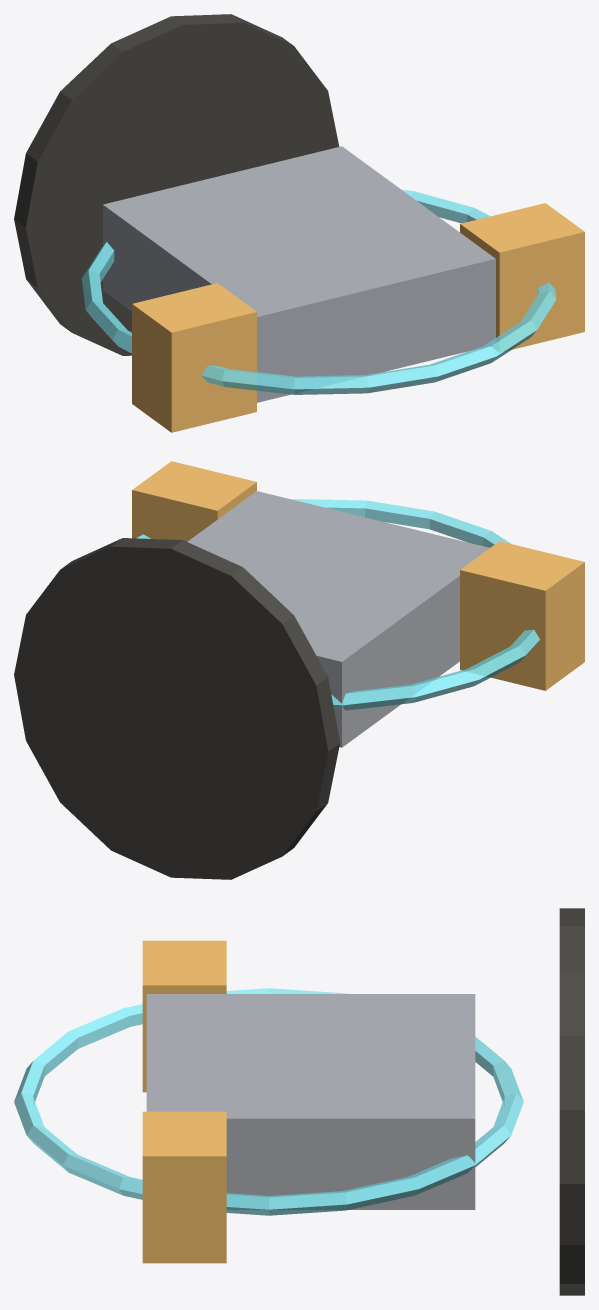
The model's file is 05_high_tier_magic_armor_aura.glb.
The picture shows the model from 3 angles, top to bottom: view 1: azimuth 30°, elevation 25°; view 2: azimuth 150°, elevation 25°; view 3: azimuth 270°, elevation 25°; orthographic projection. The views are drawn at different scales.
Parts seen in each view (by area): view 1: chest_plate_upgrade, armor_display_base, left_pauldron_upgrade, right_pauldron_upgrade, armor_barrier_ring; view 2: armor_display_base, chest_plate_upgrade, left_pauldron_upgrade, armor_barrier_ring, right_pauldron_upgrade; view 3: chest_plate_upgrade, armor_barrier_ring, right_pauldron_upgrade, armor_display_base, left_pauldron_upgrade.
Part boxes in pixels (x1,y1,x2,y2): chest_plate_upgrade: [103, 146, 495, 402]; armor_display_base: [14, 14, 339, 355]; left_pauldron_upgrade: [132, 283, 256, 432]; right_pauldron_upgrade: [460, 203, 584, 351]; armor_barrier_ring: [81, 189, 556, 394]; armor_display_base: [14, 538, 339, 879]; chest_plate_upgrade: [187, 491, 489, 747]; left_pauldron_upgrade: [460, 541, 584, 690]; armor_barrier_ring: [136, 499, 539, 710]; right_pauldron_upgrade: [132, 461, 256, 541]; chest_plate_upgrade: [146, 994, 475, 1209]; armor_barrier_ring: [14, 988, 523, 1215]; right_pauldron_upgrade: [142, 1111, 226, 1263]; armor_display_base: [559, 908, 584, 1295]; left_pauldron_upgrade: [142, 940, 226, 1092].
Size of the model in its own units: 1.21 by 0.92 by 1.36.
